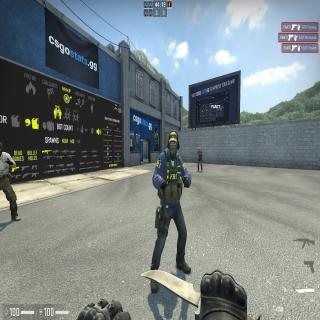CT-Body: (154, 132, 190, 270)
CT-Head: (169, 131, 177, 156)
T-Body: (0, 141, 10, 220), (196, 146, 202, 172)
T-Head: (199, 147, 201, 152)
